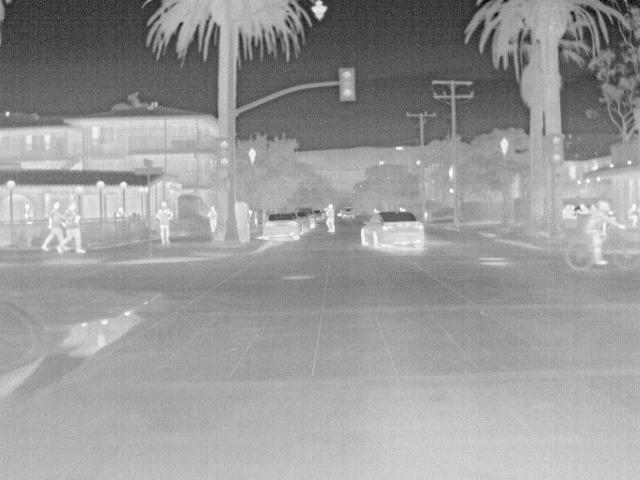car: (358, 208, 426, 250), (260, 212, 300, 244), (292, 212, 311, 234)
person: (586, 201, 625, 265), (56, 197, 87, 257), (40, 198, 67, 249), (157, 200, 173, 244), (206, 204, 221, 234), (323, 202, 337, 232), (563, 202, 580, 222), (20, 203, 37, 222), (113, 206, 129, 220), (576, 200, 591, 214)
